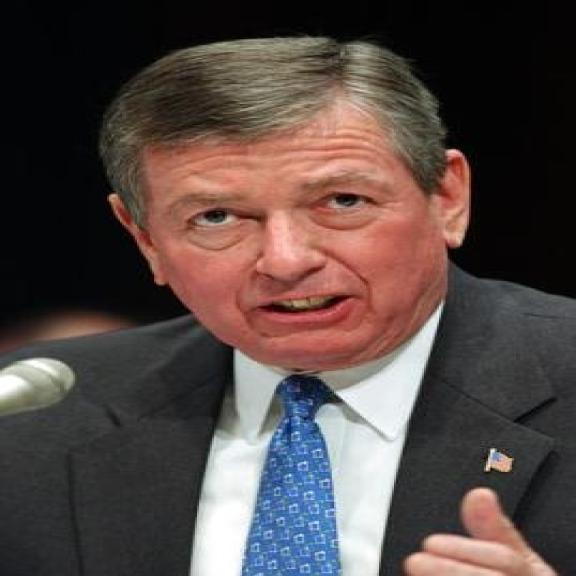face: (95, 106, 484, 372)
